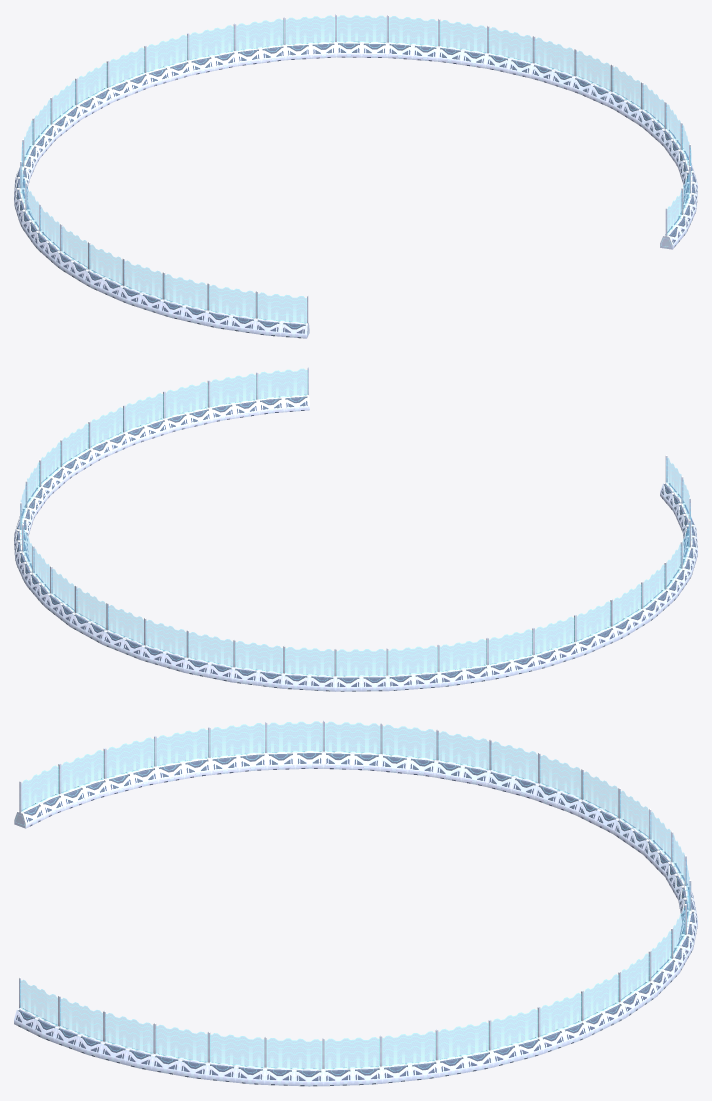
The model's file is obj_fence06.gltf.
3 views of the same model, one above another, from view 1: azimuth 30°, elevation 25°; view 2: azimuth 150°, elevation 25°; view 3: azimuth 270°, elevation 25° (orthographic). The views are drawn at different scales.
Visible parts, largest first — view 1: obj_fence06; view 2: obj_fence06; view 3: obj_fence06.
Boxes of the visible parts, x1=… form: obj_fence06: x1=14, y1=14, x2=697, y2=338; obj_fence06: x1=14, y1=367, x2=697, y2=691; obj_fence06: x1=14, y1=720, x2=697, y2=1086.
Size of what is drawn, in the model's own units: 32.36 by 2.09 by 28.86.
2 materials, 2 textured.
